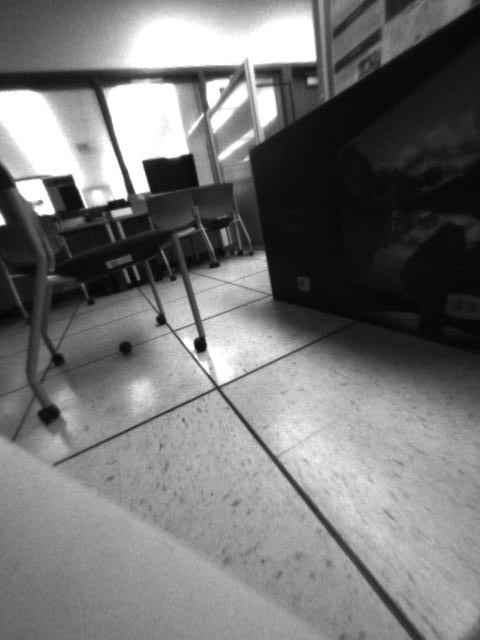dogtoy: (114, 335, 140, 358)
